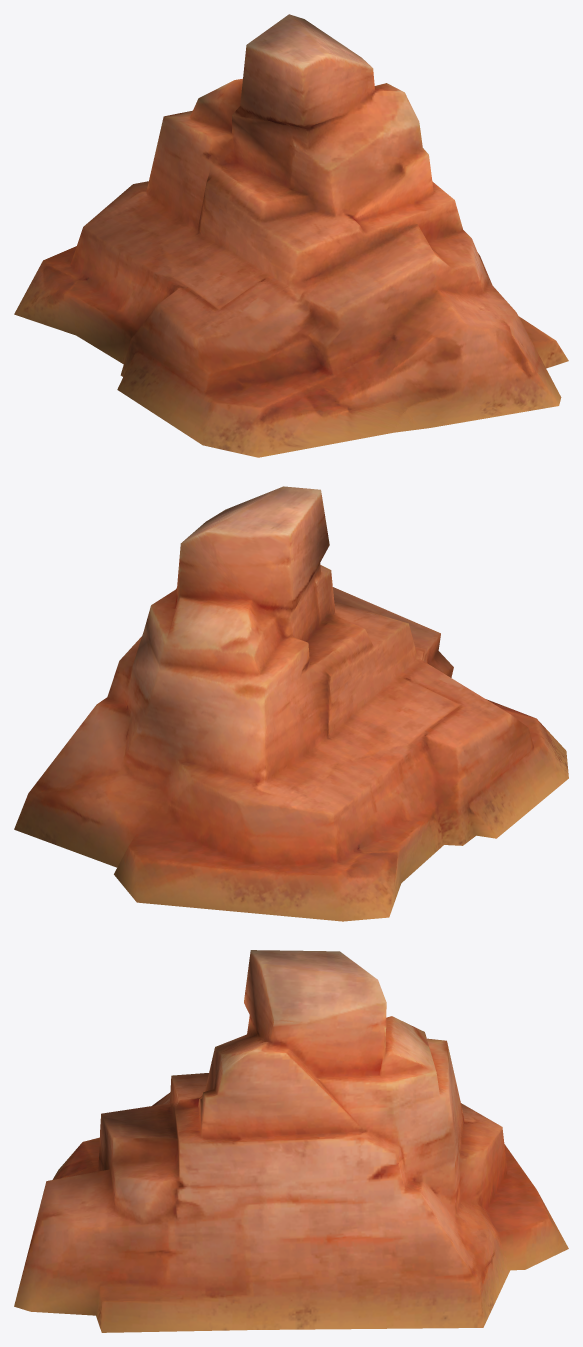
Rendered from PF_Desertnew_mountain04.fbx.
The picture shows the model from 3 angles, top to bottom: view 1: azimuth 30°, elevation 25°; view 2: azimuth 150°, elevation 25°; view 3: azimuth 270°, elevation 25°; orthographic projection. The views are drawn at different scales.
Parts seen in each view (by area): view 1: PF_Desertnew_mountain04; view 2: PF_Desertnew_mountain04; view 3: PF_Desertnew_mountain04.
Part boxes in pixels (x1=…): PF_Desertnew_mountain04: x1=14, y1=14, x2=568, y2=457; PF_Desertnew_mountain04: x1=14, y1=486, x2=568, y2=921; PF_Desertnew_mountain04: x1=14, y1=950, x2=568, y2=1332.
Size of the model in its own units: 5.34 by 3.97 by 6.91.
